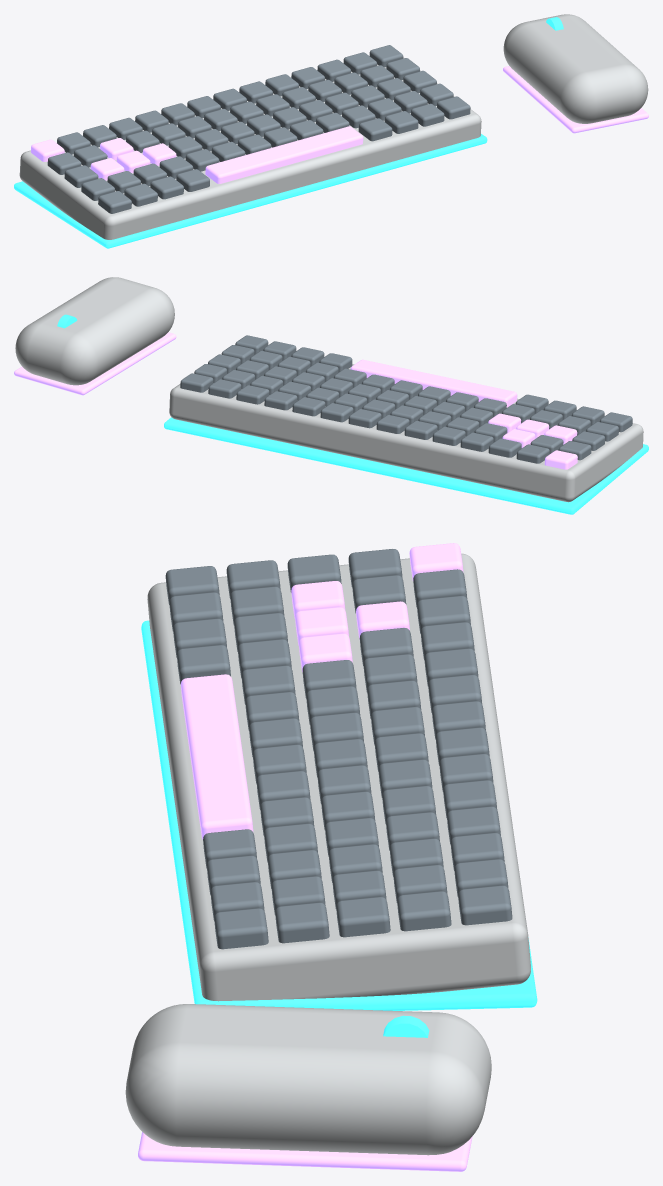
The model's file is atelier-gaming-peripherals-arctic.glb.
The picture shows the model from 3 angles, top to bottom: view 1: azimuth 30°, elevation 25°; view 2: azimuth 150°, elevation 25°; view 3: azimuth 270°, elevation 25°; orthographic projection. The views are drawn at different scales.
Bounding box in the file's own units: 0.4266 × 0.0428 × 0.1346.
